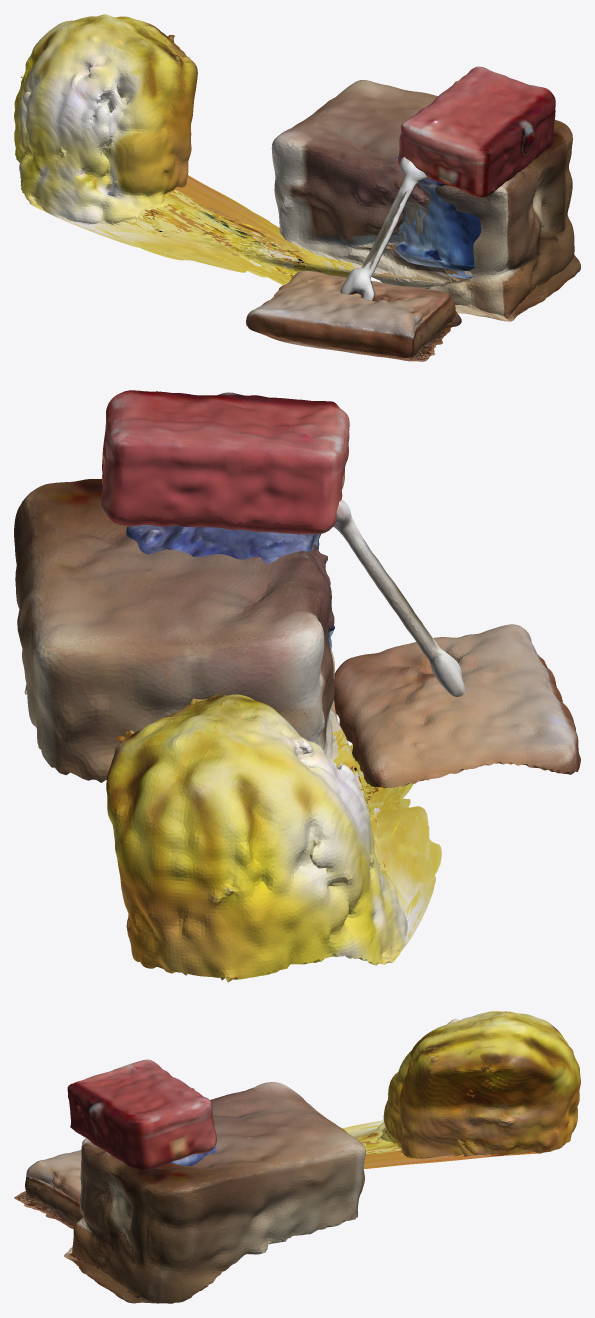
File: gen3dsr_no_bg.glb
3 renders of one model, top to bottom at view 1: azimuth 30°, elevation 25°; view 2: azimuth 150°, elevation 25°; view 3: azimuth 270°, elevation 25°, orthographic. The views are drawn at different scales.
Visible parts, largest first — view 1: 2.obj, 1.obj, 0.obj, 5.obj, 4.obj, 3.obj; view 2: 2.obj, 1.obj, 0.obj, 5.obj, 4.obj, 3.obj; view 3: 1.obj, 2.obj, 0.obj, 5.obj.
Part boxes in pixels (x1=…): 2.obj: x1=14, y1=14, x2=354, y2=285; 1.obj: x1=271, y1=80, x2=580, y2=321; 0.obj: x1=398, y1=66, x2=555, y2=197; 5.obj: x1=246, y1=270, x2=461, y2=361; 4.obj: x1=395, y1=157, x2=481, y2=278; 3.obj: x1=340, y1=157, x2=427, y2=300; 2.obj: x1=106, y1=694, x2=441, y2=982; 1.obj: x1=14, y1=479, x2=350, y2=782; 0.obj: x1=101, y1=390, x2=349, y2=534; 5.obj: x1=334, y1=624, x2=580, y2=788; 4.obj: x1=126, y1=525, x2=334, y2=651; 3.obj: x1=333, y1=499, x2=465, y2=696; 1.obj: x1=64, y1=1082, x2=365, y2=1303; 2.obj: x1=342, y1=1011, x2=580, y2=1168; 0.obj: x1=67, y1=1059, x2=216, y2=1170; 5.obj: x1=14, y1=1150, x2=83, y2=1229.
Bounding box in the file's own units: 0.9663 × 0.4515 × 1.31.
6 materials, 6 textured.
